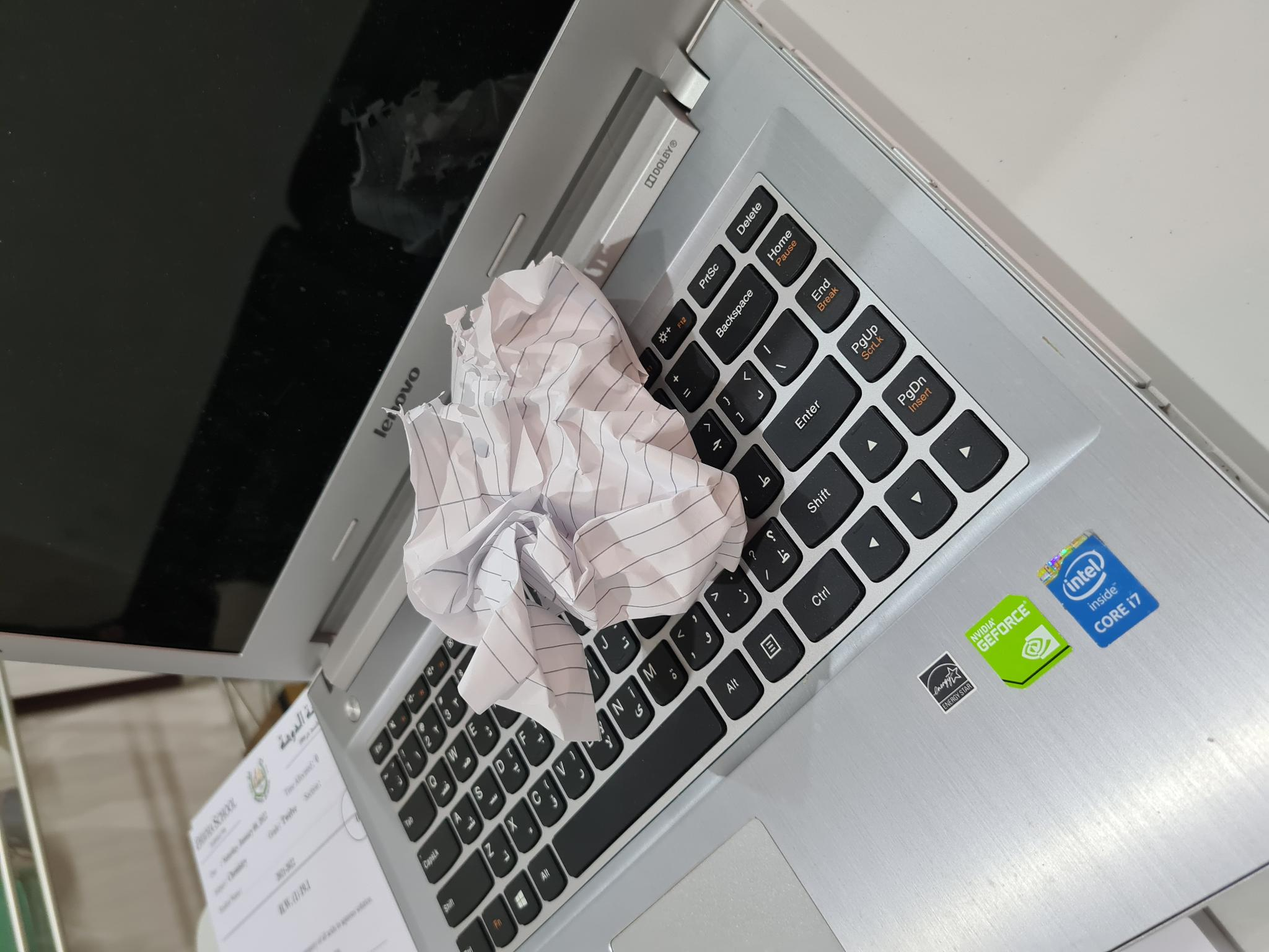Kertas: (216, 406, 699, 741)
